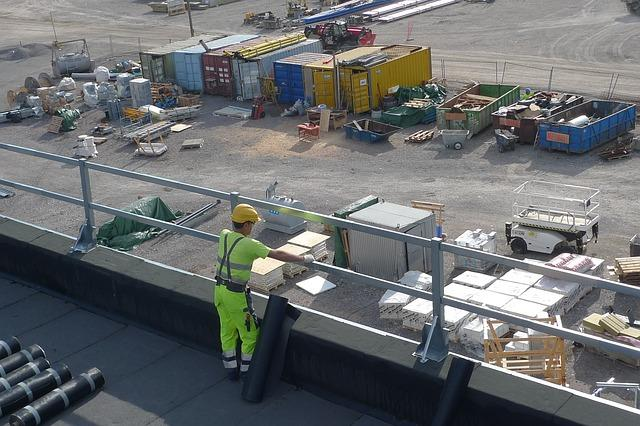helmet: (233, 205, 261, 223)
